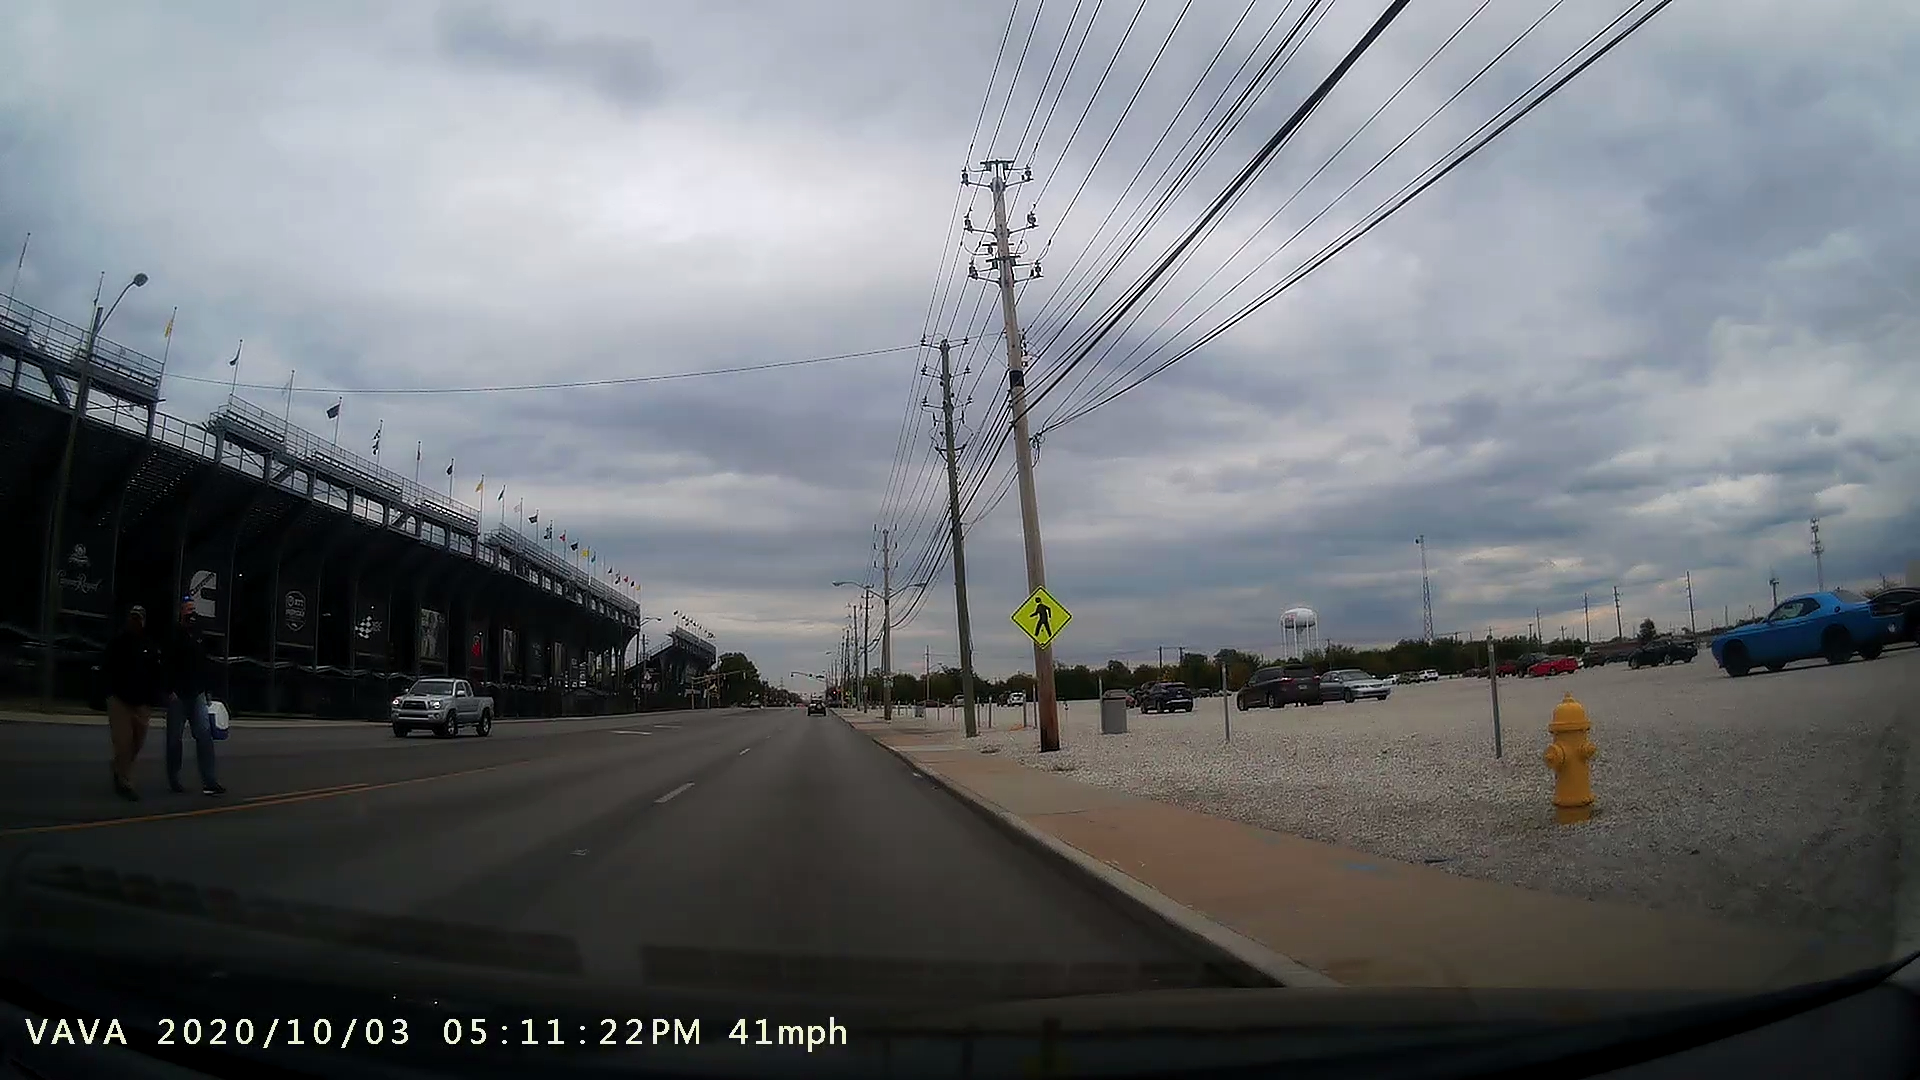fire_hydrant: (1526, 680, 1619, 851)
